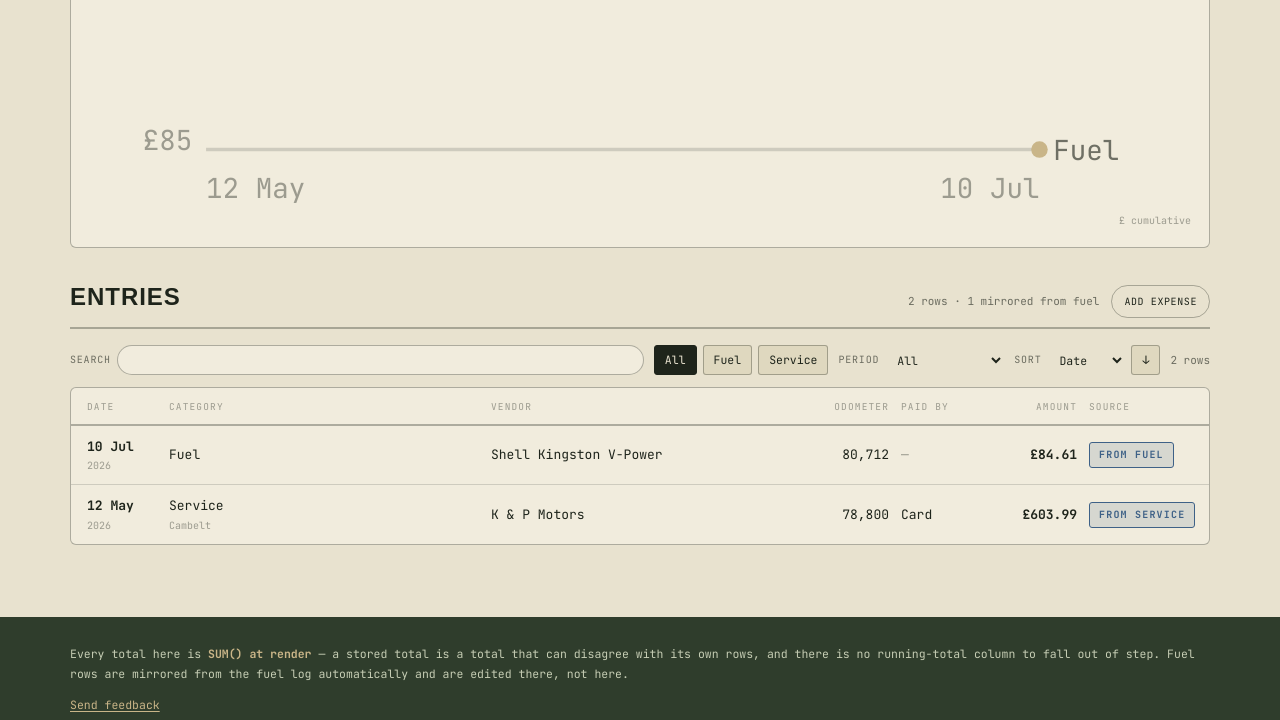
Scenario: search › restores every row and drops the filtered box when cleared
The image size is (1280, 720).
(page scrolled)
Expected: the text "K & P Motors" is shown, [491,506,585,523]
Type "shell" into the search field labelled "Search" at (380, 360), box [117,345,644,375]
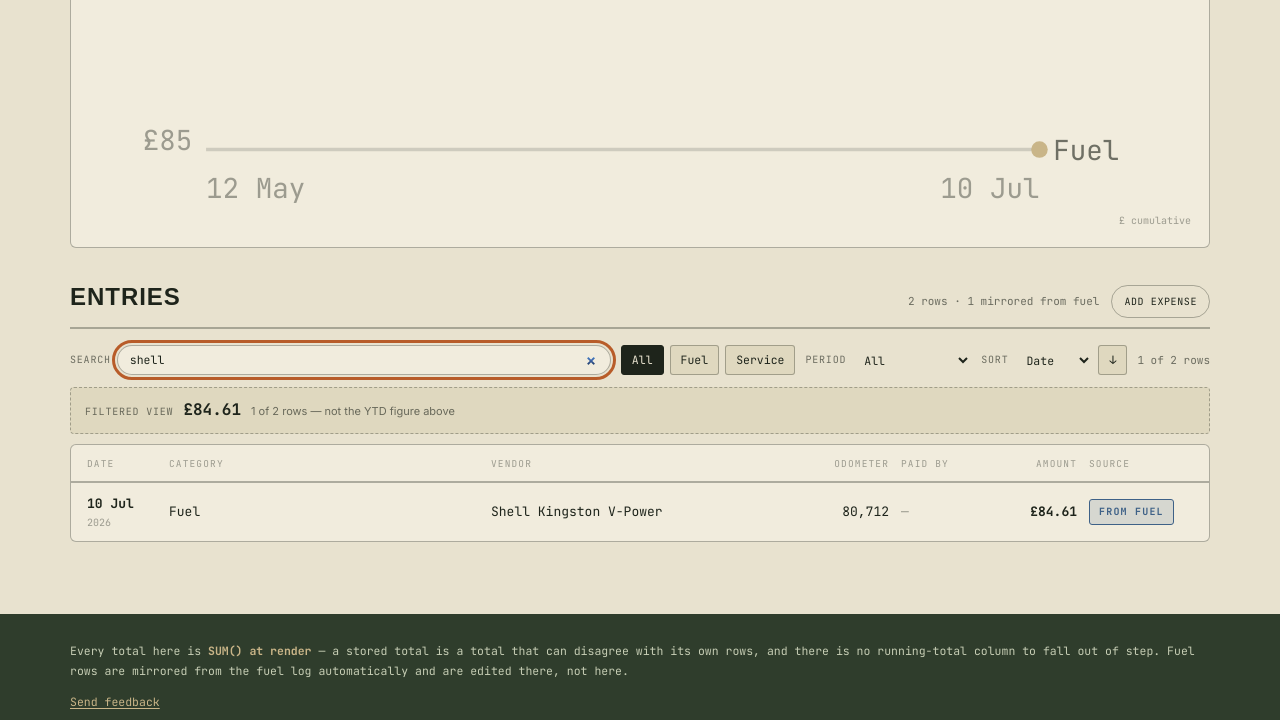
Result: the text with class "tctl-count" shows "1 of 2" at [1137,353,1177,367]
Clear the search field labelled "Search" at (364, 360), box [117,345,611,375]
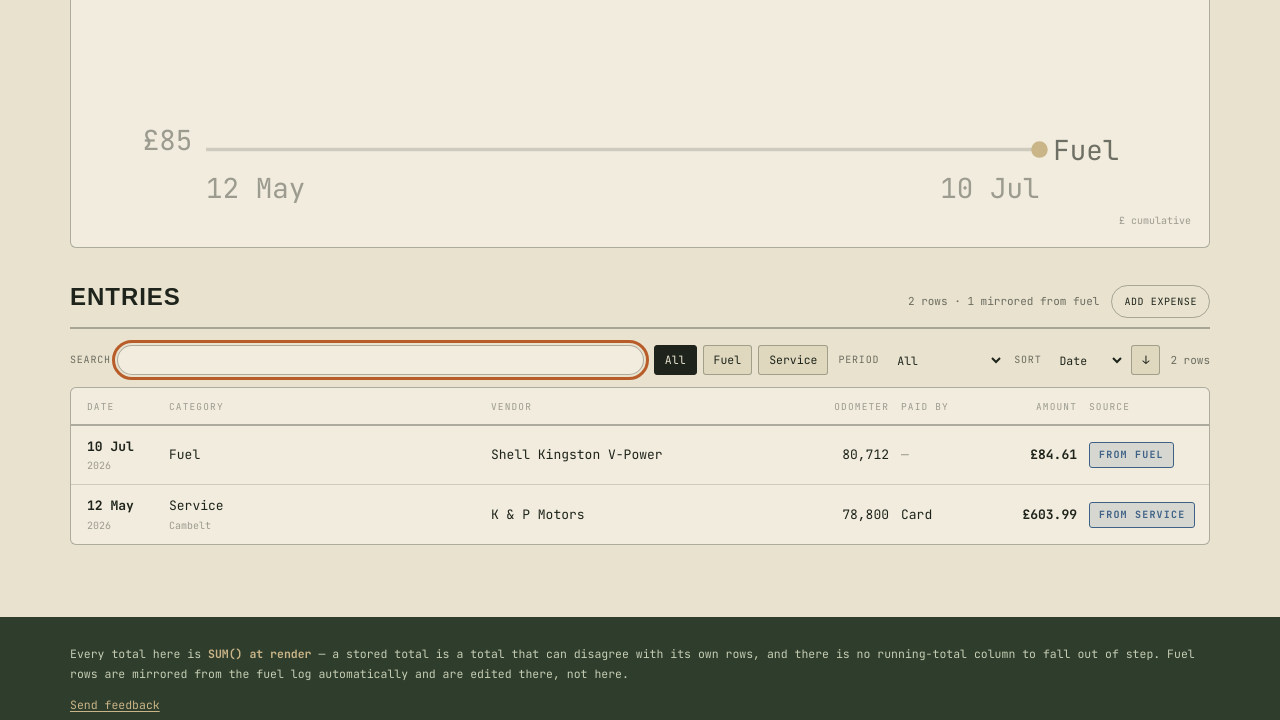
Expected: the text with class "tctl-count" reads "2 rows", [1170,352,1210,369]
Result: the message with class "filtered-total" is gone
